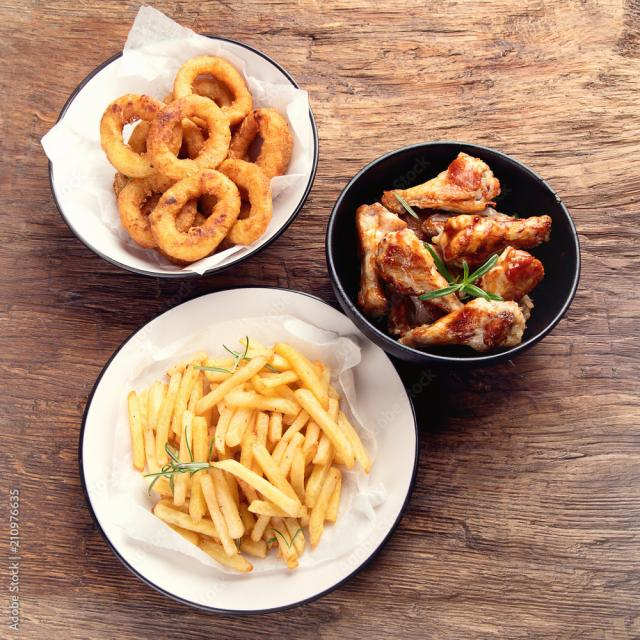Chicken Wings: (345, 145, 560, 355)
French Fries: (119, 338, 377, 581)
Onion Rings: (95, 58, 298, 265)
